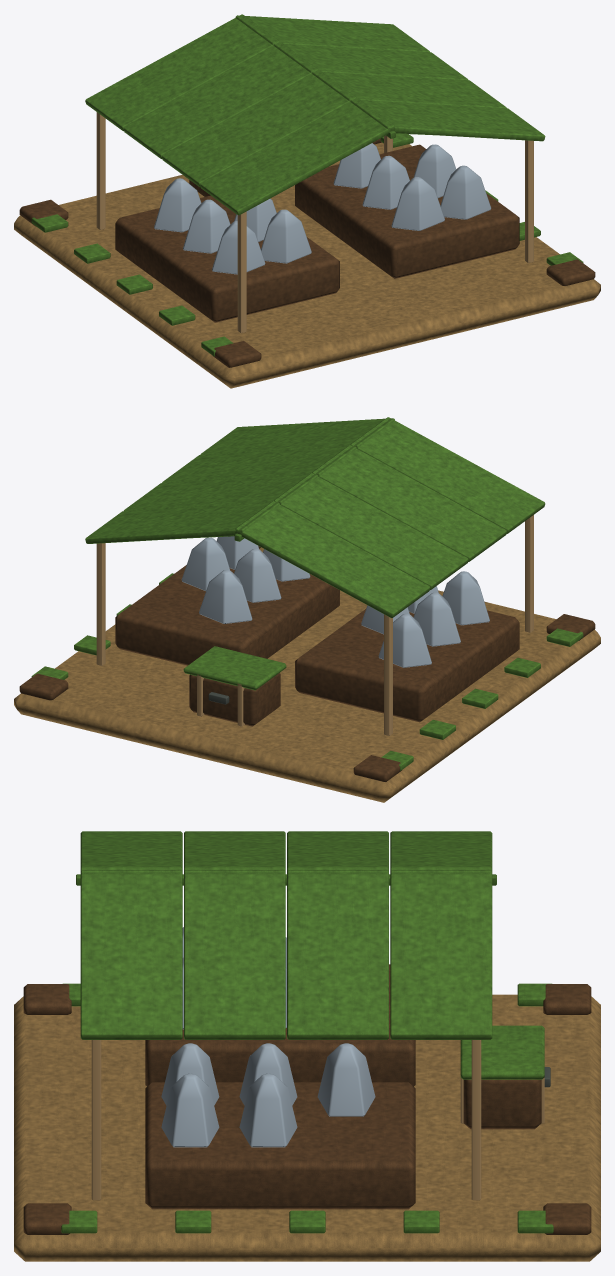
The model's file is vael_entrepot_de_minerai.gltf.
3 renders of one model, top to bottom at view 1: azimuth 30°, elevation 25°; view 2: azimuth 150°, elevation 25°; view 3: azimuth 270°, elevation 25°, orthographic. The views are drawn at different scales.
Visible parts, largest first — view 1: Root.008_Geometry; view 2: Root.008_Geometry; view 3: Root.008_Geometry.
Part boxes in pixels (left/top/right/bottom): Root.008_Geometry: left=14, top=14, right=600, bottom=388; Root.008_Geometry: left=14, top=417, right=600, bottom=802; Root.008_Geometry: left=14, top=831, right=600, bottom=1261.
Size of the model in its own units: 3.91 by 2.01 by 3.91.
Materials: 6 (3 with a texture image).
